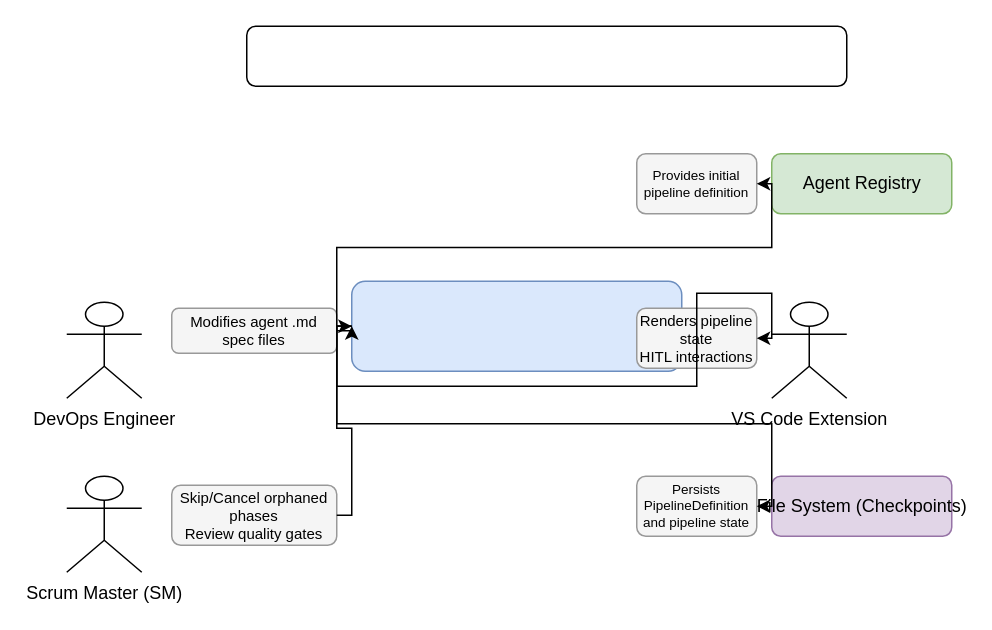
This 992x630 diagram has some shape labels left out. The centre of each missing label's shape, as x and y in pixels:
Pipeline Engine (Data-Driven VM): point (516, 325)
SA4E-125: Pipeline Refactoring — System Context: point (546, 55)
